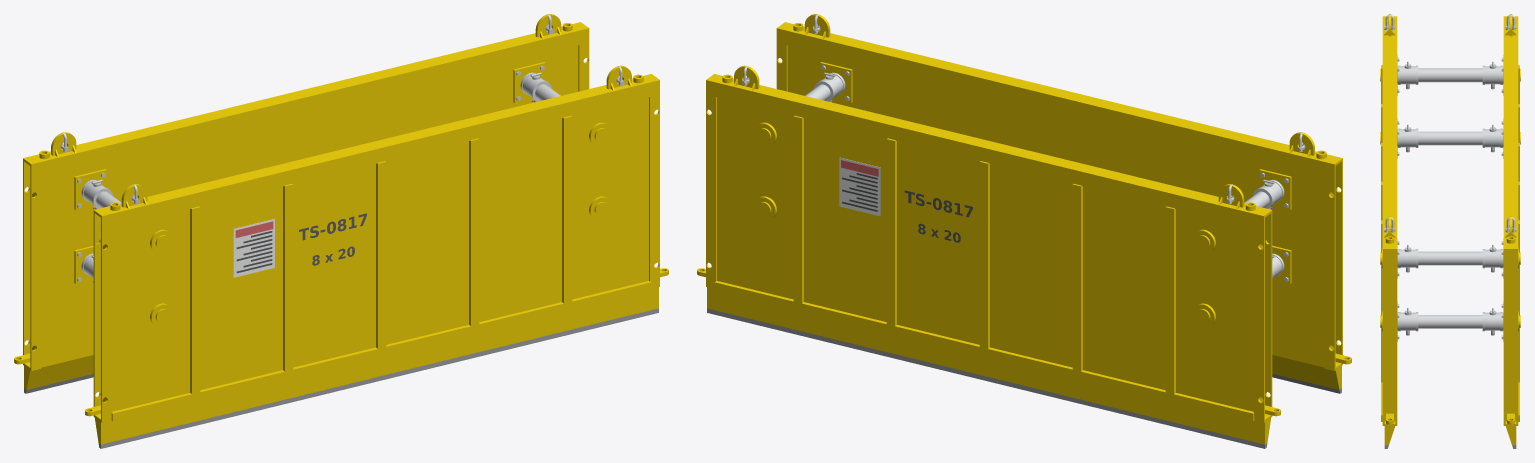
The model's file is Trench_Shield_8x20ft.glb.
3 renders of one model, left to right at view 1: azimuth 30°, elevation 25°; view 2: azimuth 150°, elevation 25°; view 3: azimuth 270°, elevation 25°, orthographic. The views are drawn at different scales.
Visible parts, largest first — view 1: panel_R, panel_L, outer_ribs_R, knife_edge_R, end_channels_R, end_channels_L, cutting_edge_R, socket_plates_L, data_decal_R, knife_edge_L, spreader_collars, padeyes_R (+3 smaller); view 2: panel_L, panel_R, outer_ribs_L, knife_edge_L, end_channels_L, end_channels_R, cutting_edge_L, socket_plates_R, data_decal_L, knife_edge_R, spreader_collars, padeyes_L (+3 smaller); view 3: spreader_pipes, panel_R, panel_L, spreader_collars, end_channels_L, end_channels_R, outer_ribs_L, outer_ribs_R, spreader_pins, shackles_L, shackles_R, padeyes_L (+5 smaller).
Part boxes in pixels (x1,y1,x2,y2): panel_R: (104, 78, 650, 411); panel_L: (33, 26, 579, 366); outer_ribs_R: (111, 115, 651, 421); knife_edge_R: (94, 287, 658, 444); end_channels_R: (93, 74, 659, 422); end_channels_L: (23, 22, 589, 370); cutting_edge_R: (98, 308, 658, 448); socket_plates_L: (74, 62, 545, 283); data_decal_R: (233, 219, 274, 277); knife_edge_L: (24, 354, 93, 389); spreader_collars: (81, 72, 551, 278); padeyes_R: (121, 65, 631, 208); panel_L: (715, 78, 1261, 411); panel_R: (786, 26, 1332, 366); outer_ribs_L: (714, 115, 1254, 421); knife_edge_L: (707, 287, 1271, 444); end_channels_L: (706, 74, 1272, 422); end_channels_R: (776, 22, 1342, 370); cutting_edge_L: (707, 308, 1267, 448); socket_plates_R: (820, 62, 1291, 283); data_decal_L: (839, 157, 880, 216); knife_edge_R: (1272, 354, 1341, 389); spreader_collars: (814, 72, 1284, 278); padeyes_L: (734, 65, 1244, 208); spreader_pipes: (1418, 68, 1482, 328); panel_R: (1382, 20, 1397, 244); panel_L: (1503, 20, 1518, 244); spreader_collars: (1397, 65, 1503, 331); end_channels_L: (1503, 16, 1518, 425); end_channels_R: (1382, 16, 1397, 425); outer_ribs_L: (1518, 65, 1520, 421); outer_ribs_R: (1380, 65, 1382, 421); spreader_pins: (1404, 61, 1496, 335); shackles_L: (1506, 14, 1515, 232); shackles_R: (1385, 14, 1394, 232); padeyes_L: (1505, 14, 1516, 237).
Size of the model in its own units: 6.37 by 2.64 by 1.55.
